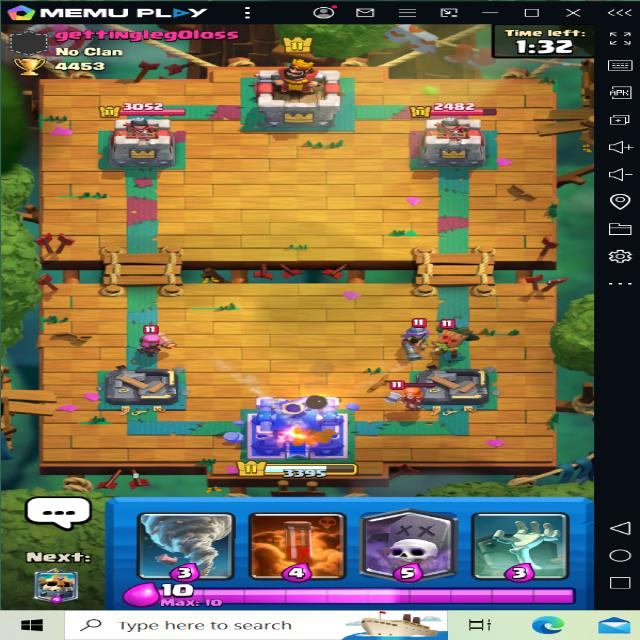dart-goblin: (430, 317, 478, 365)
firecracker: (132, 320, 192, 358)
musketeer: (381, 317, 434, 361)
valkyrie: (383, 372, 451, 412)
